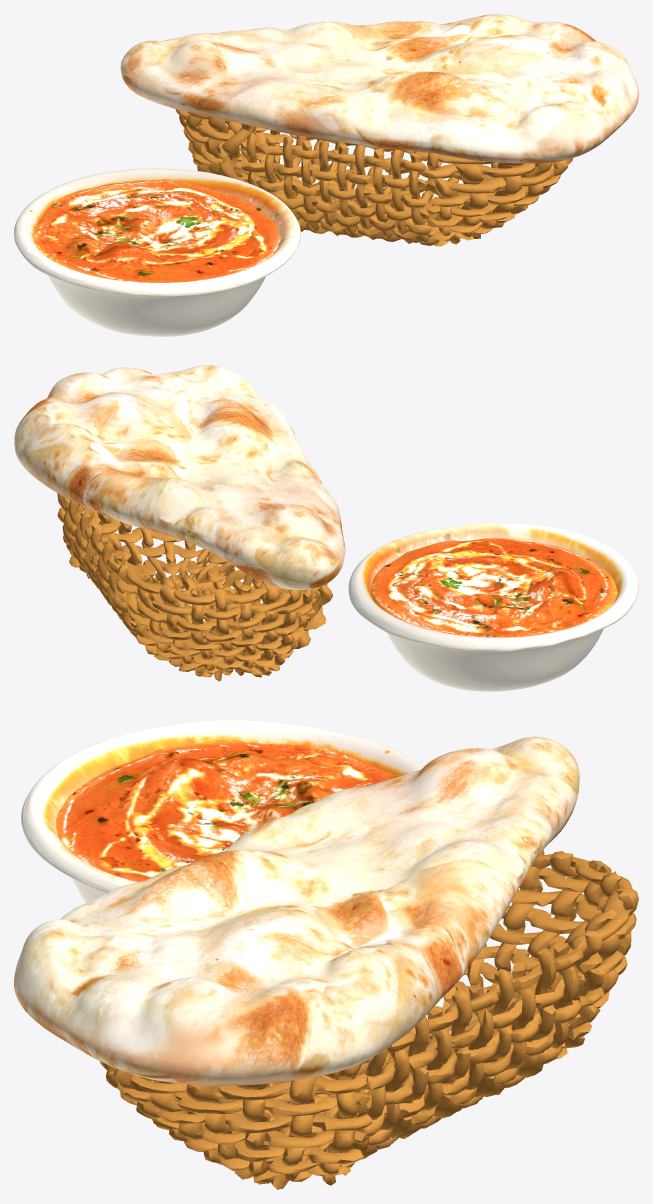
The model's file is butter_chicken_set.glb.
The picture shows the model from 3 angles, top to bottom: view 1: azimuth 30°, elevation 25°; view 2: azimuth 150°, elevation 25°; view 3: azimuth 270°, elevation 25°; orthographic projection. The views are drawn at different scales.
Parts seen in each view (by area): view 1: nan06_3, bcurry07_1, kago06_2; view 2: nan06_3, bcurry07_1, kago06_2; view 3: nan06_3, kago06_2, bcurry07_1.
Part boxes in pixels (<box>): nan06_3: <box>120,14,638,163</box>; bcurry07_1: <box>14,168,300,336</box>; kago06_2: <box>175,109,572,246</box>; nan06_3: <box>14,365,345,589</box>; bcurry07_1: <box>348,523,638,691</box>; kago06_2: <box>57,493,332,681</box>; nan06_3: <box>14,736,579,1086</box>; kago06_2: <box>100,850,638,1189</box>; bcurry07_1: <box>21,720,424,902</box>.
Size of the model in its own units: 0.1709 by 0.0514 by 0.1052.
Materials: 3 (3 with a texture image).
